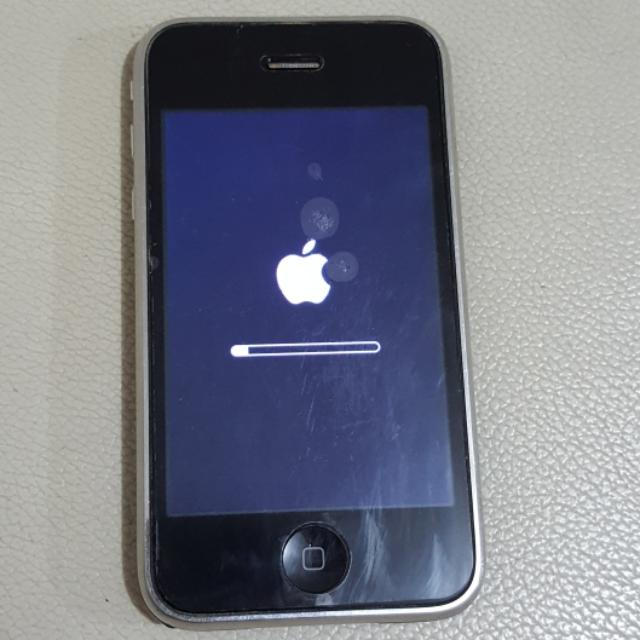Handphone: (128, 12, 492, 625)
